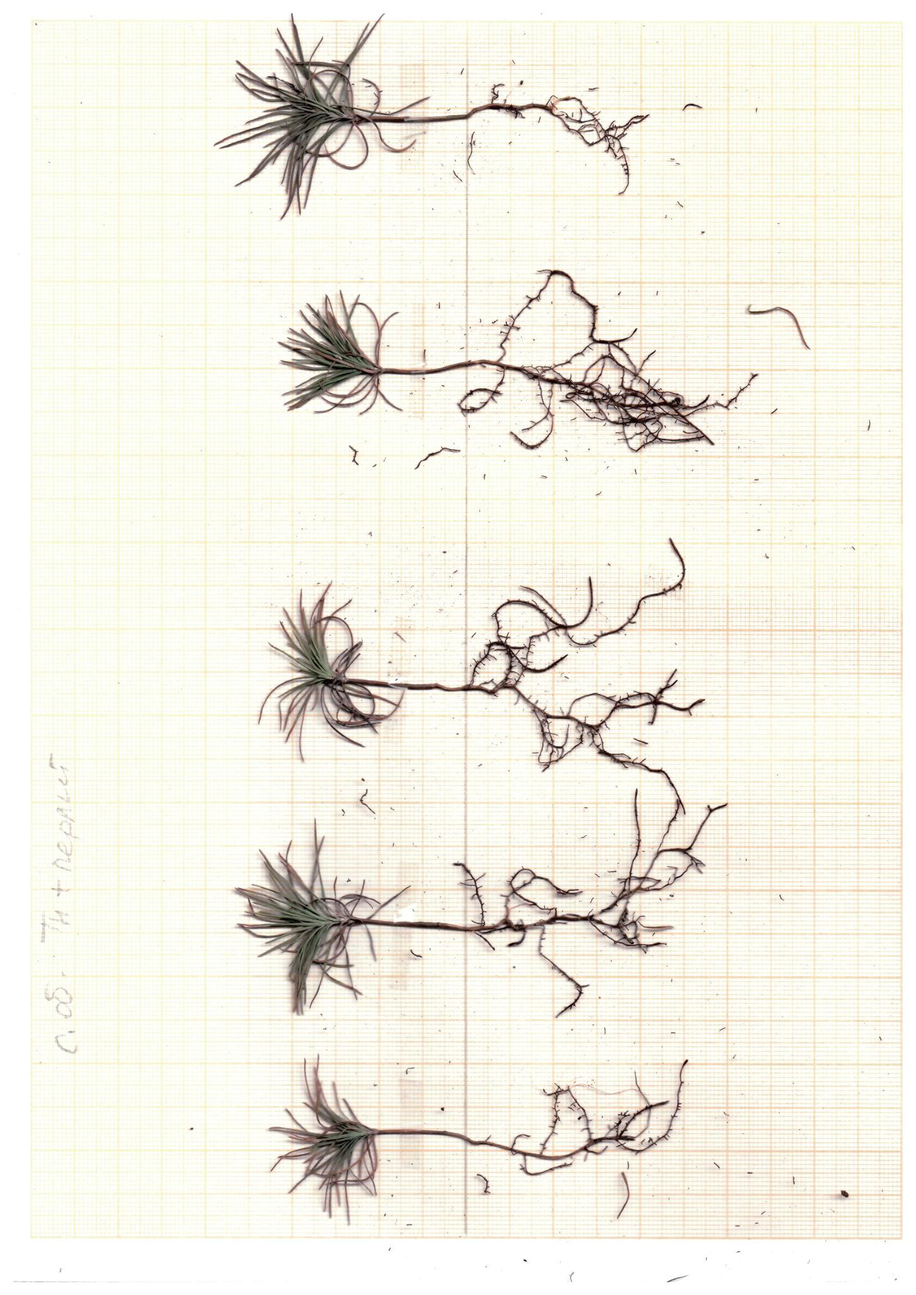Seeding: (261, 528, 707, 804), (237, 794, 736, 1022), (276, 263, 766, 478), (207, 9, 648, 222), (264, 1047, 701, 1228)
